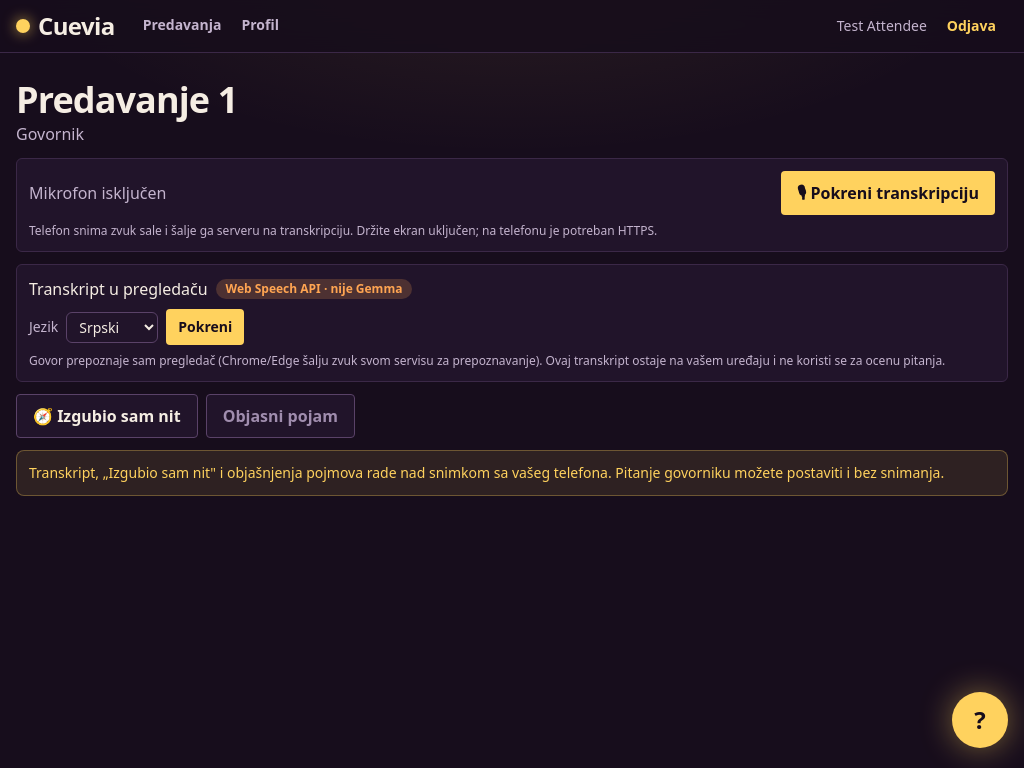
Test: question drawer › reuses client_request_id on retry and never deletes text on failure
Click the button named "Postavi pitanje": [980, 720] box [952,692,1008,748]
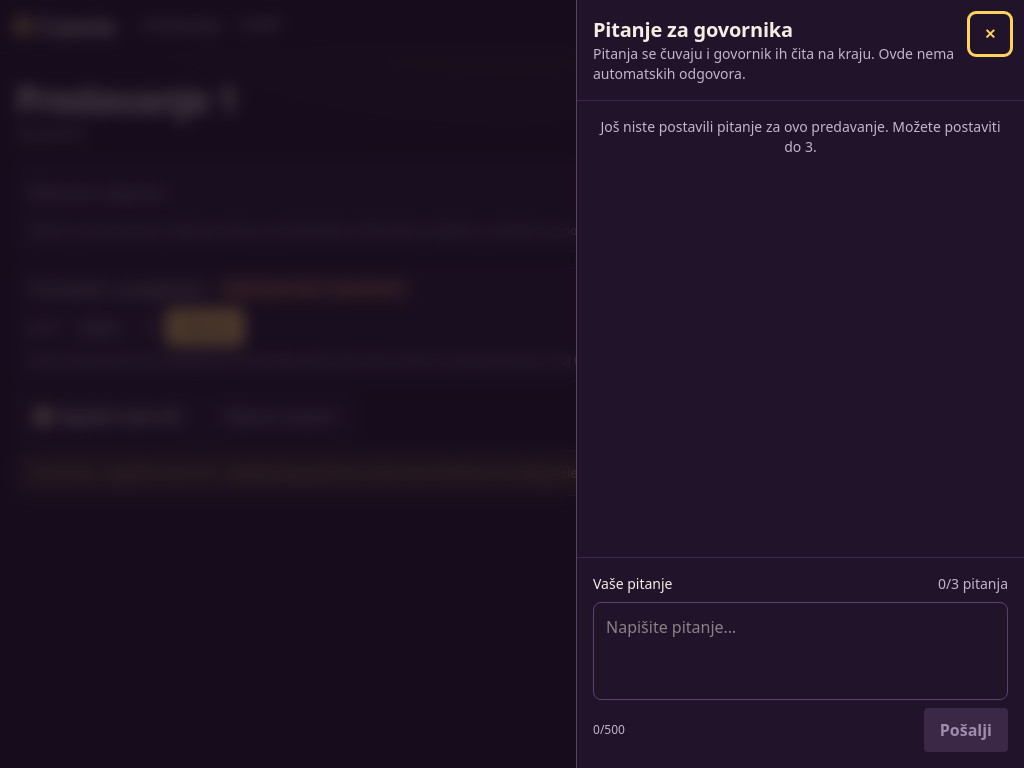
Expected: the text "0/3 pitanja" is shown, [938,574,1008,594]
In the text box labelled "Vaše pitanje": [800, 651] box [593,602,1008,700], type "Kako radi HNSW?"
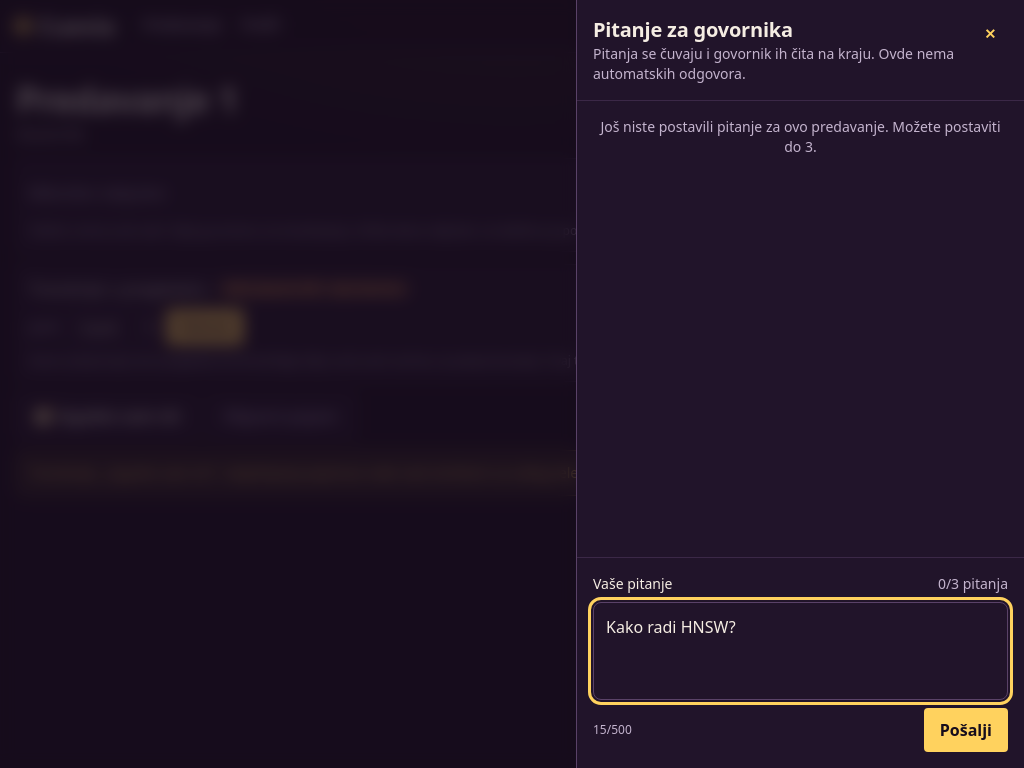
Click the button "Pošalji": [966, 730] box [924,708,1008,752]
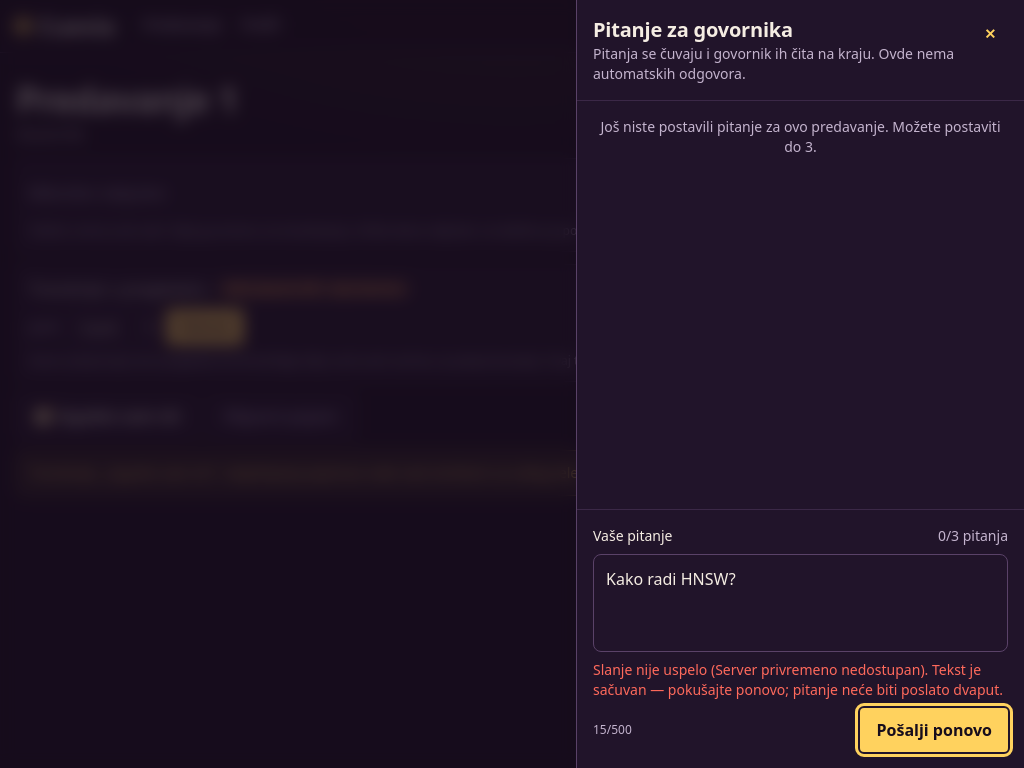
Expected: the text "Slanje nije uspelo" is shown, [593,660,715,679]
Click the button "Pošalji ponovo": [934, 730] box [860,708,1008,752]
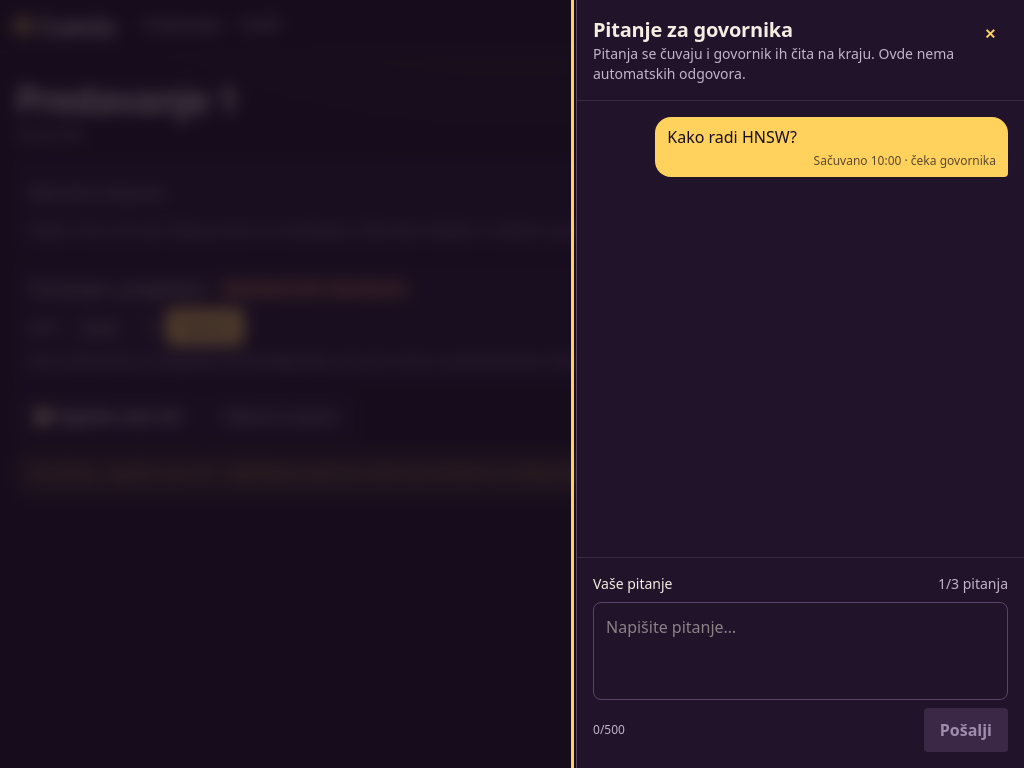
Expected: the text "Kako radi HNSW?" is shown, [667,126,797,148]
Expected: the text box labelled "Vaše pitanje" is empty, [593,602,1008,700]
Expected: the text "1/3 pitanja" is shown, [938,574,1008,594]
